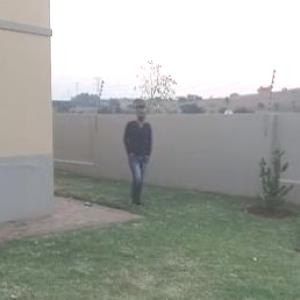follow: (120, 101, 154, 205)
